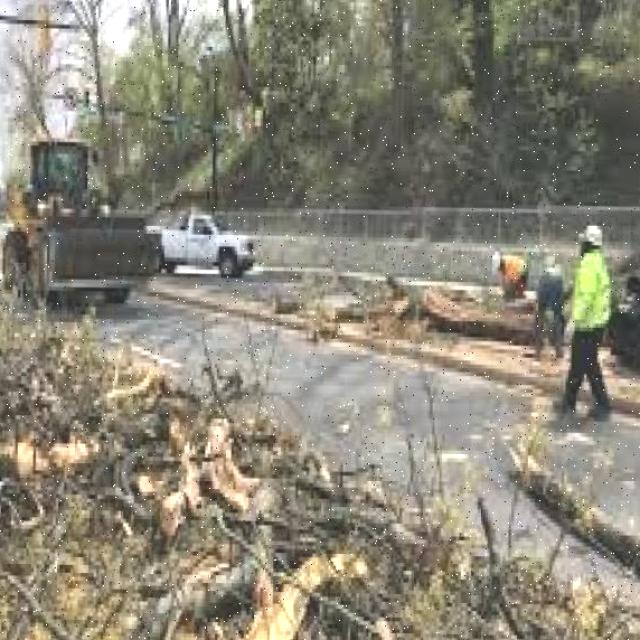fallen_object: (282, 248, 593, 362)
